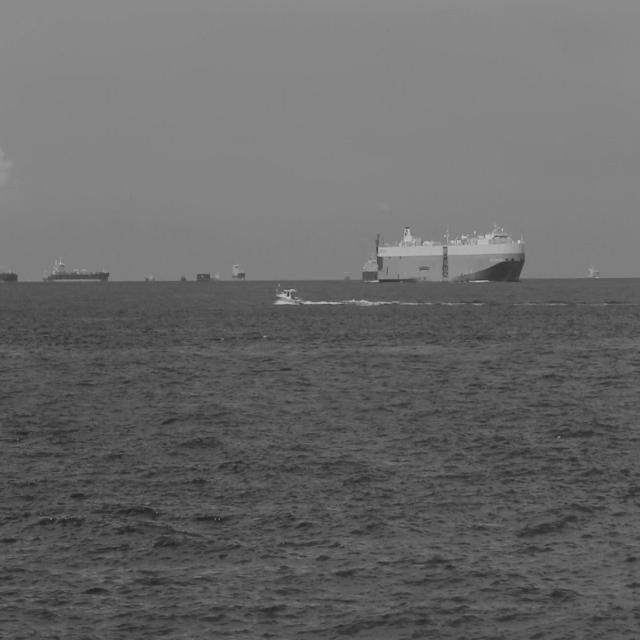ship: (374, 222, 525, 284), (40, 254, 110, 284), (274, 281, 302, 305), (360, 254, 378, 282), (230, 260, 247, 282), (0, 268, 19, 284), (196, 270, 212, 284), (144, 272, 156, 284), (178, 273, 188, 283), (212, 272, 220, 283)
